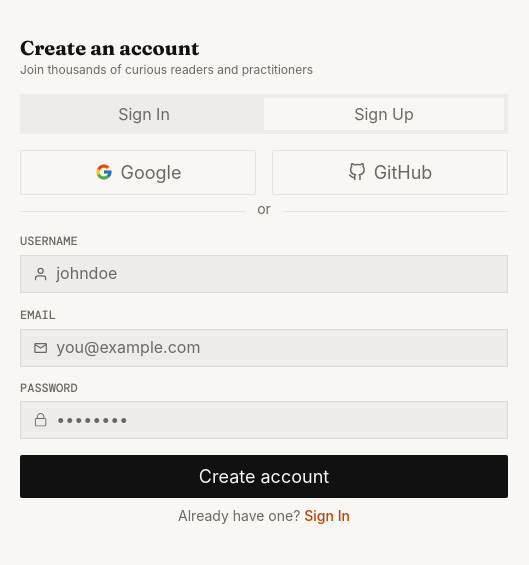
Test: RegisterForm component › API and Network Errors › should display API error message when registration fails due to server error
Type "existingUser" into the field labelled "USERNAME" at (276,274), box [56, 264, 495, 284]
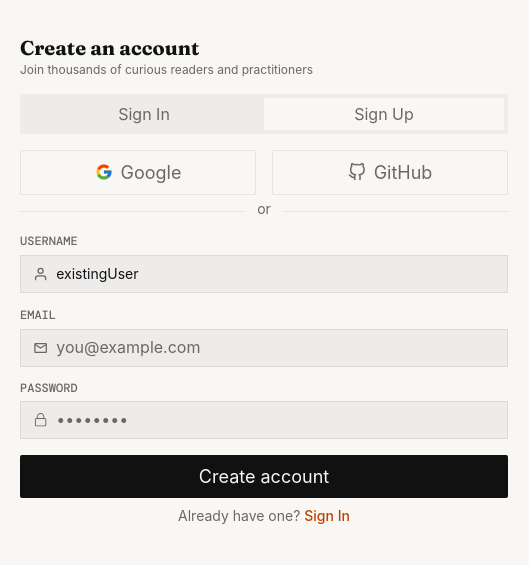
Type "existing@example.com" into the field labelled "EMAIL" at (276,348), box [56, 338, 495, 358]
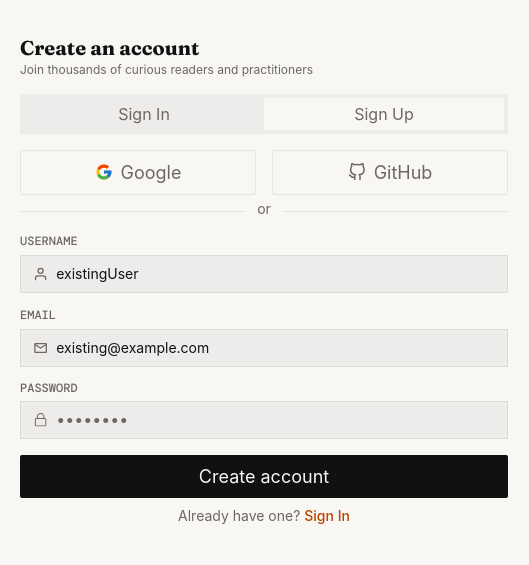
Type "validPassword123" into the password field labelled "PASSWORD" at (276,420), box [56, 410, 495, 430]
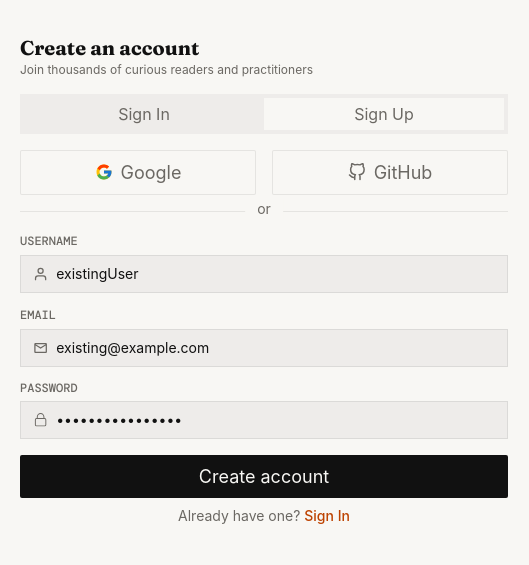
Click the button "Create account" at (264,477), box [20, 455, 508, 498]
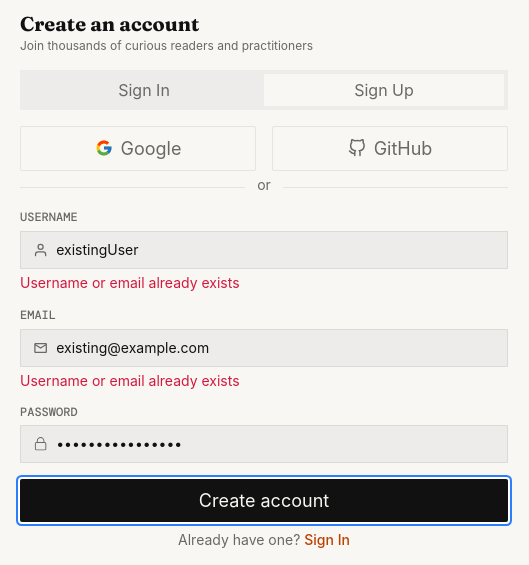
Expected: the 1st text "Username or email already exists" is shown, [20, 274, 240, 291]
